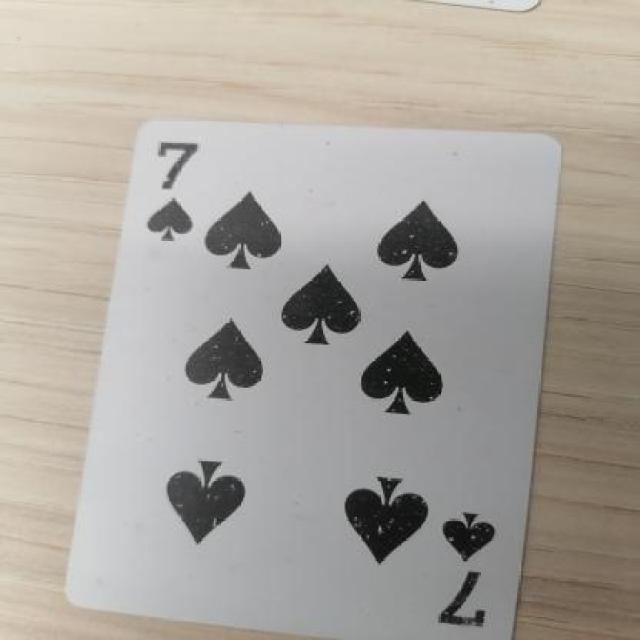7S: (420, 496, 528, 638), (122, 132, 222, 245)
